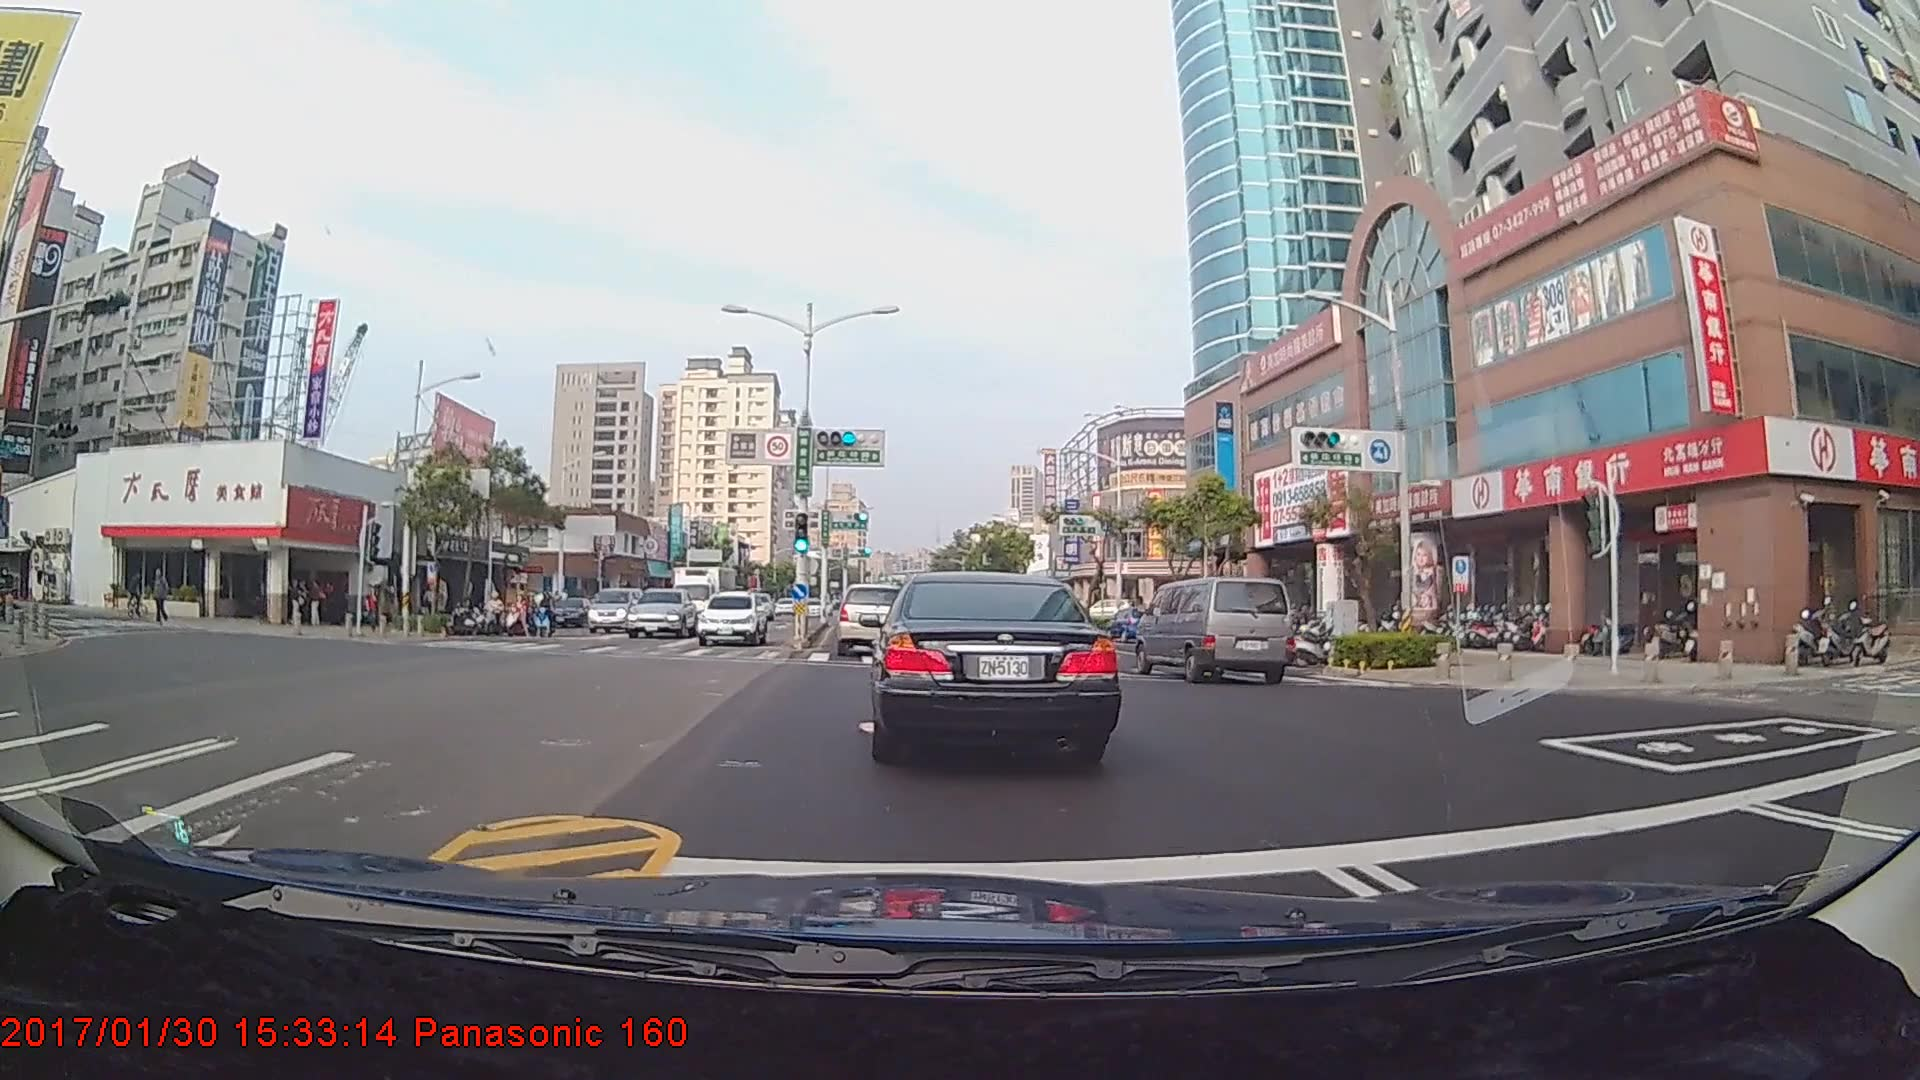pedestrian: (151, 570, 173, 625), (290, 579, 310, 632), (305, 579, 325, 628)
vehicle: (869, 567, 1114, 762), (1139, 575, 1294, 684), (836, 581, 915, 657), (668, 560, 737, 632), (695, 590, 768, 646), (624, 588, 697, 639), (584, 584, 643, 633), (1102, 603, 1156, 644)
